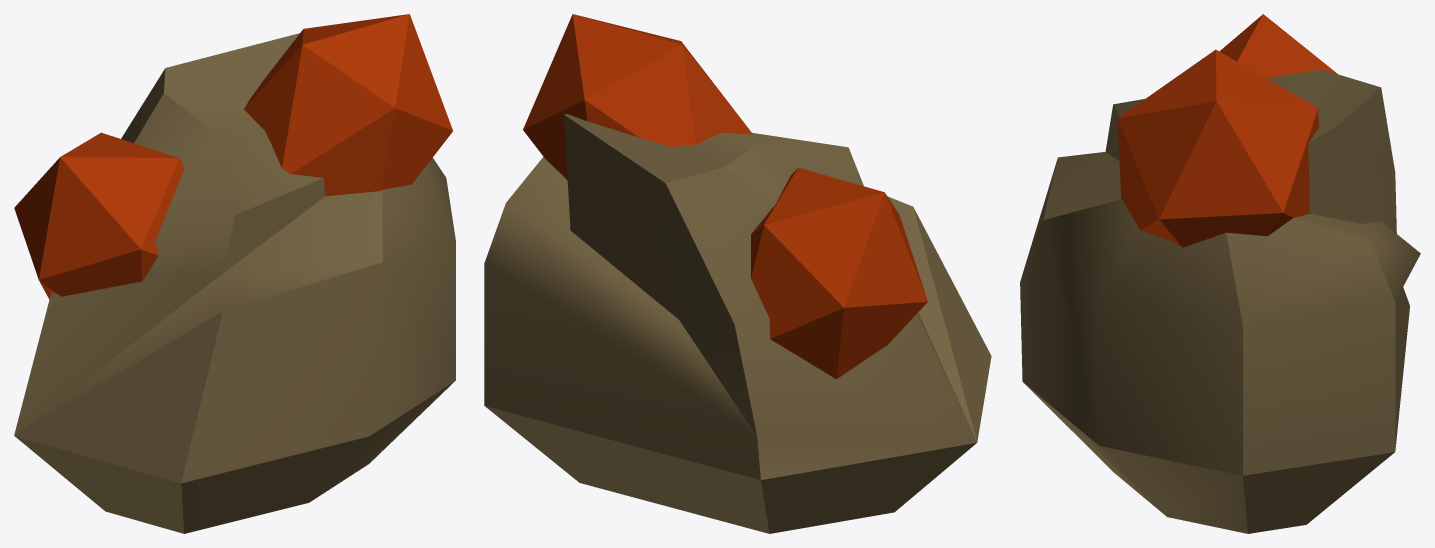
The model's file is cry_ore_orange1.fbx.
3 renders of one model, left to right at view 1: azimuth 30°, elevation 25°; view 2: azimuth 150°, elevation 25°; view 3: azimuth 270°, elevation 25°, orthographic. The views are drawn at different scales.
Parts seen in each view (by area): view 1: cry_ore_orange1; view 2: cry_ore_orange1; view 3: cry_ore_orange1.
Boxes of the visible parts, left/top/right/bottom form: cry_ore_orange1: left=14, top=14, right=455, bottom=533; cry_ore_orange1: left=484, top=14, right=991, bottom=533; cry_ore_orange1: left=1020, top=14, right=1420, bottom=533.
Bounding box in the file's own units: 1.81 × 1.63 × 1.31.
